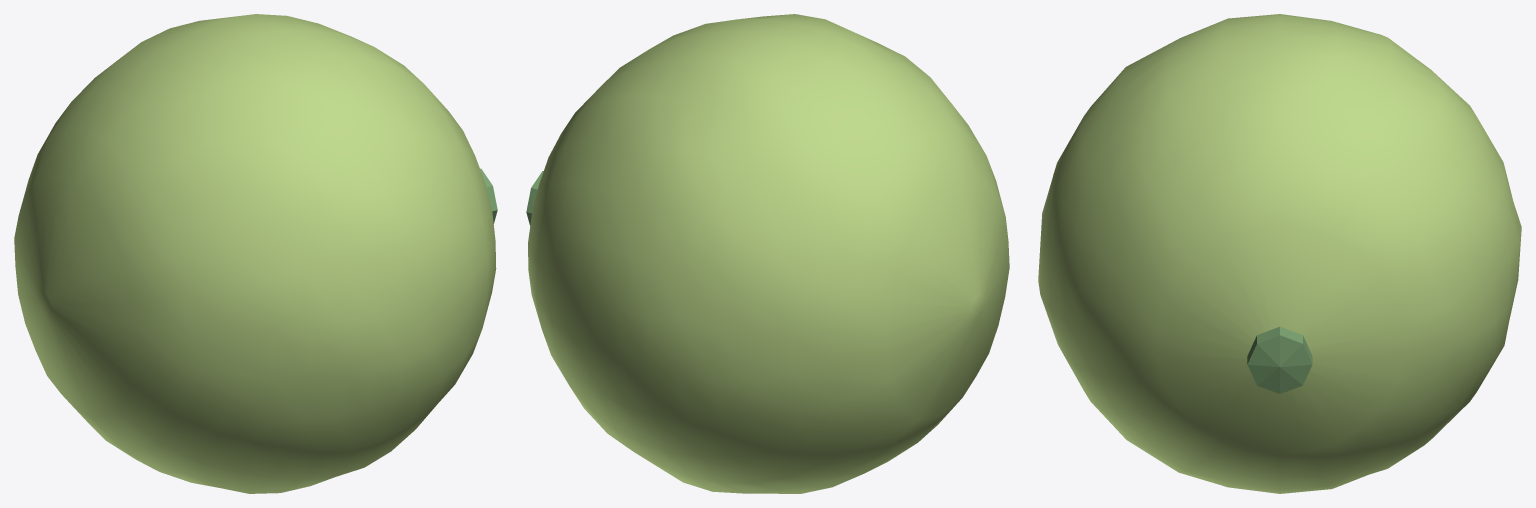
The model's file is fresh-produce-and-groceries-lime-92ebbd83__24331.glb.
The picture shows the model from 3 angles, left to right: view 1: azimuth 30°, elevation 25°; view 2: azimuth 150°, elevation 25°; view 3: azimuth 270°, elevation 25°; orthographic projection.
Parts seen in each view (by area): view 1: lime; view 2: lime; view 3: lime.
Part boxes in pixels (x1,y1,x2,y2): lime: [14, 14, 497, 493]; lime: [526, 14, 1009, 493]; lime: [1038, 14, 1521, 493].
Bounding box in the file's own units: 0.0548 × 0.052 × 0.052.
